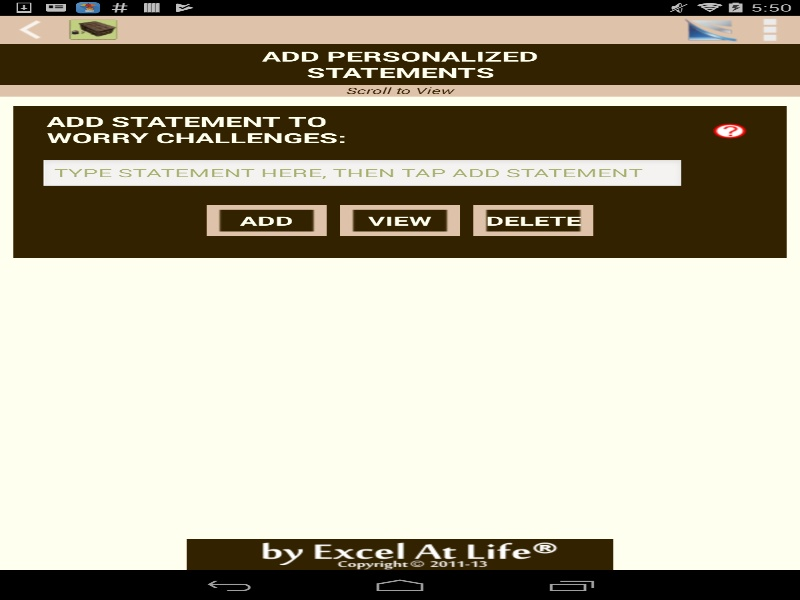Button: (206, 205, 326, 235), (473, 205, 593, 235), (340, 205, 459, 235), (60, 15, 126, 43), (0, 15, 60, 43), (680, 15, 740, 43), (713, 123, 746, 138)
Input: (40, 159, 684, 189)
